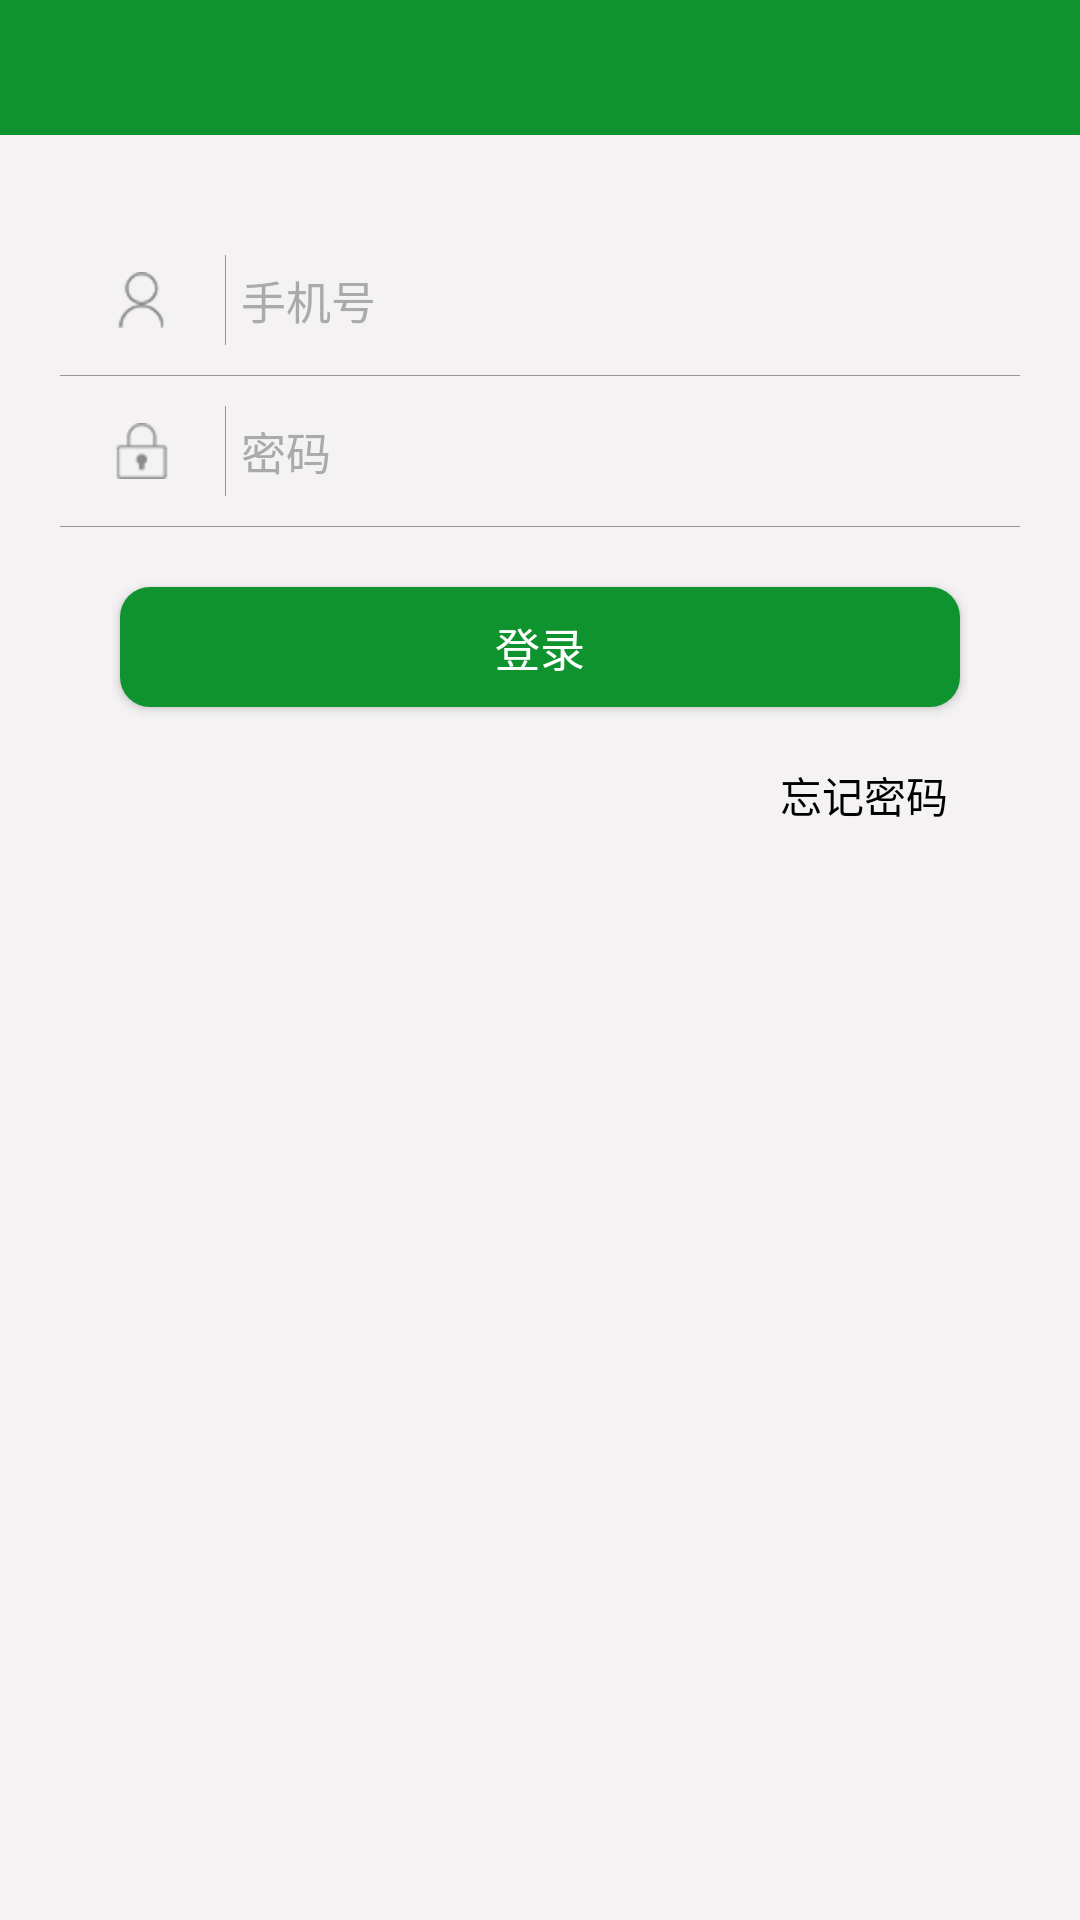

Where icons sit on this 1080x1920 app screen, as [left=x1, top=y1, right=x2, bottom=y2]:
edit password: [left=117, top=423, right=167, bottom=479]
